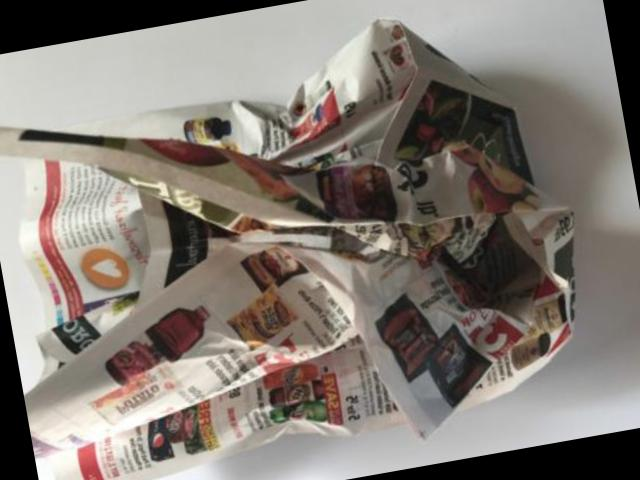cardboard paper: (0, 21, 573, 480)
